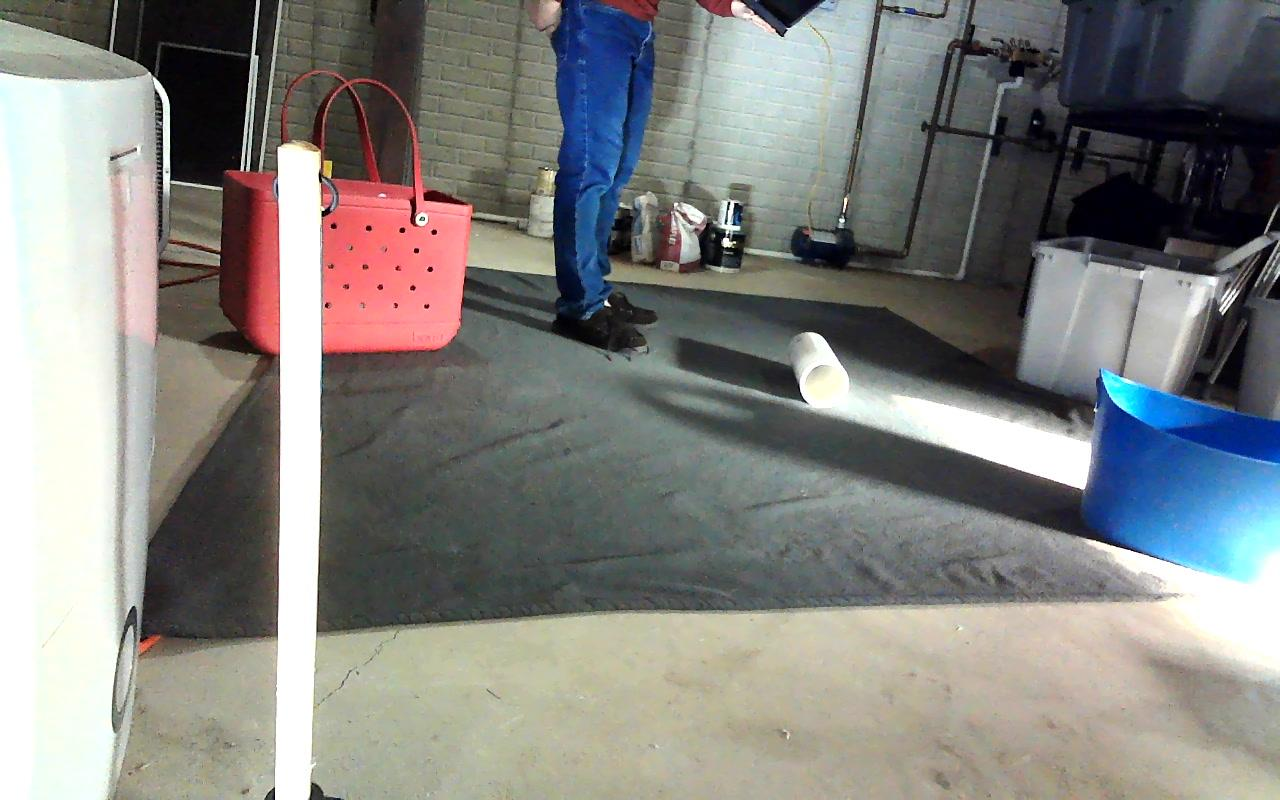coral: (788, 331, 848, 404)
